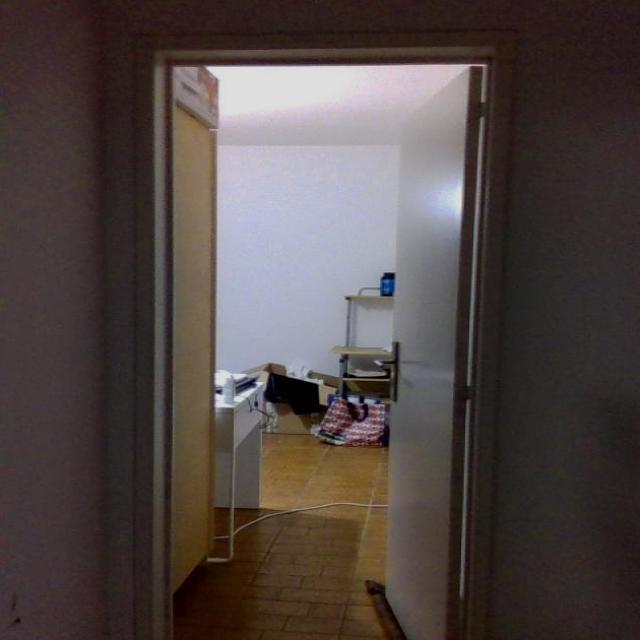door: (368, 59, 492, 639)
